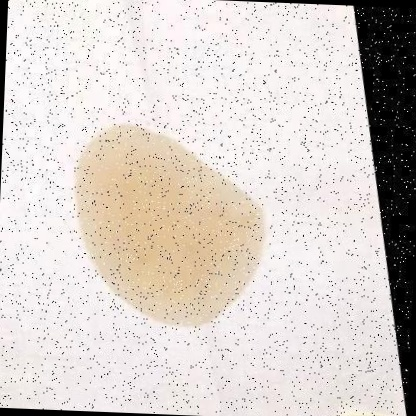coffee: (70, 120, 265, 333)
